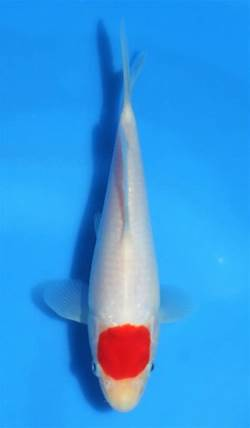sun: (39, 24, 190, 414)
